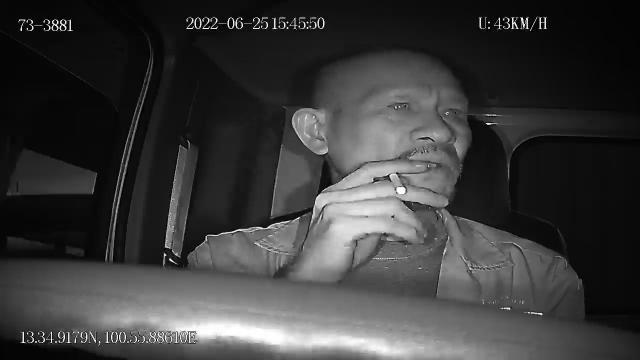SafeDriving: (433, 96, 471, 126), (379, 92, 422, 118)
Smoking: (389, 174, 408, 196)
